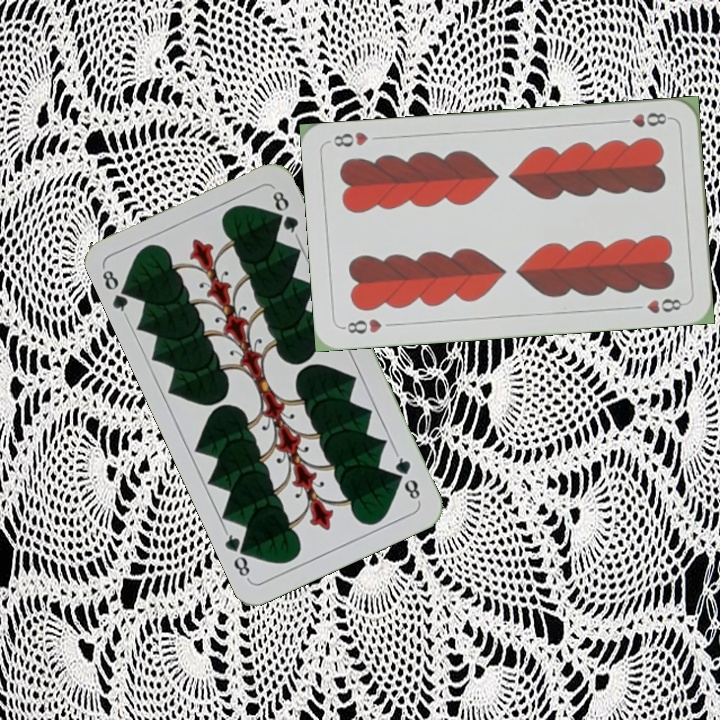G8: (98, 264, 136, 320), (391, 449, 423, 505)
H8: (614, 109, 674, 130), (338, 314, 385, 336)
